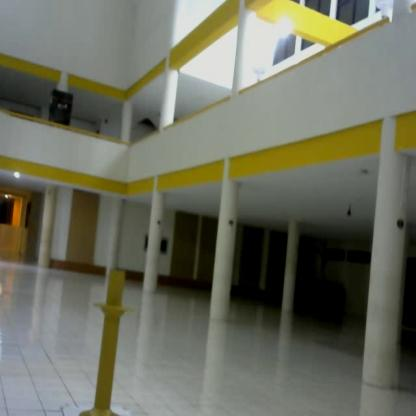pole: (76, 262, 141, 416)
